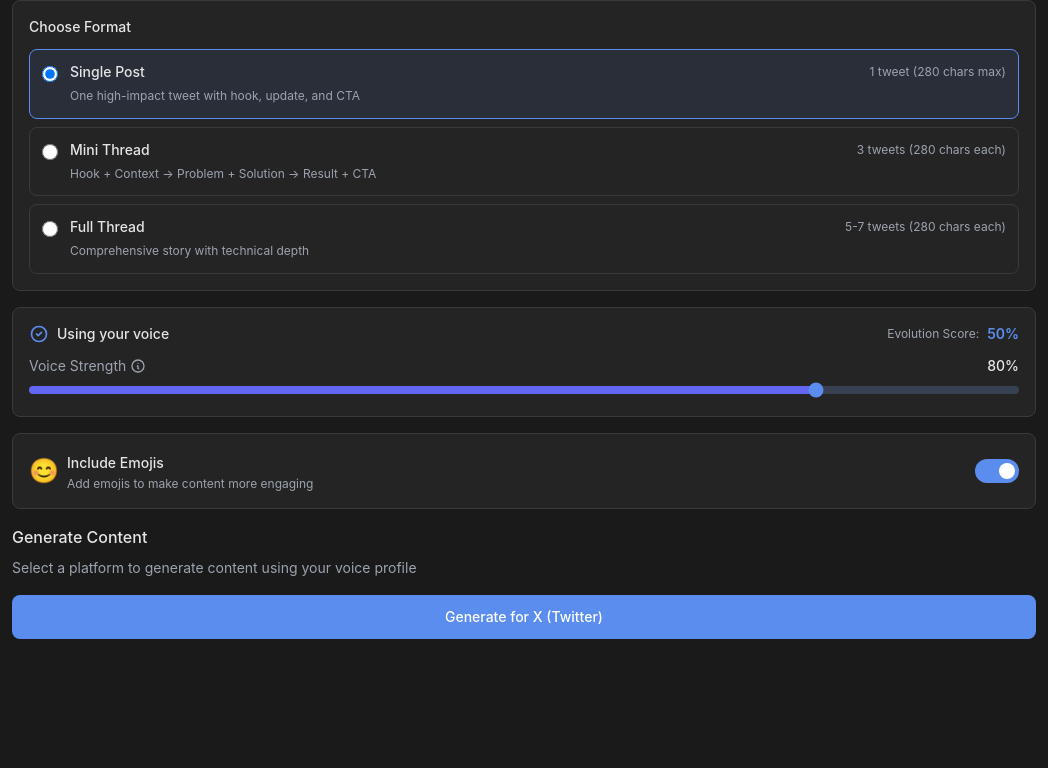
Test: ContentGenerator Voice Enhancements Tests › voice strength slider updates value in real-time
The image size is (1048, 768).
Set the slider labelled "Voice Strength" to "50": (524, 390) [29,386,1019,394]
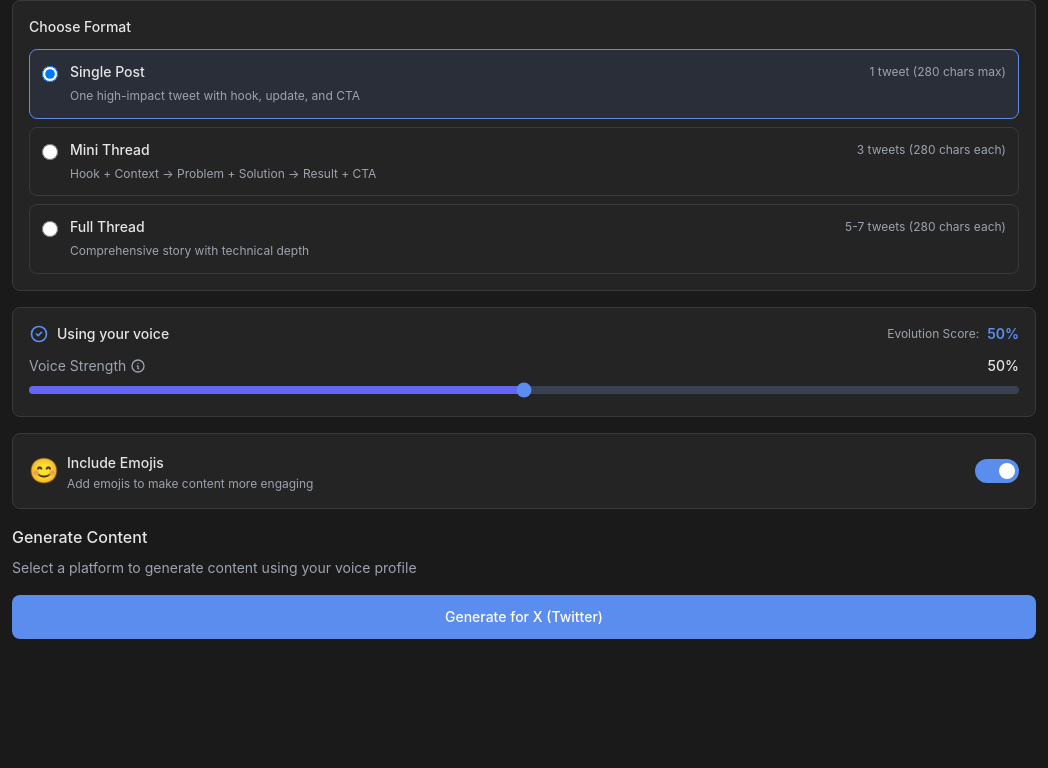
Check: the text with class "font-medium" in the row of "Voice Strength" reads "50%", box [988,356,1019,376]
